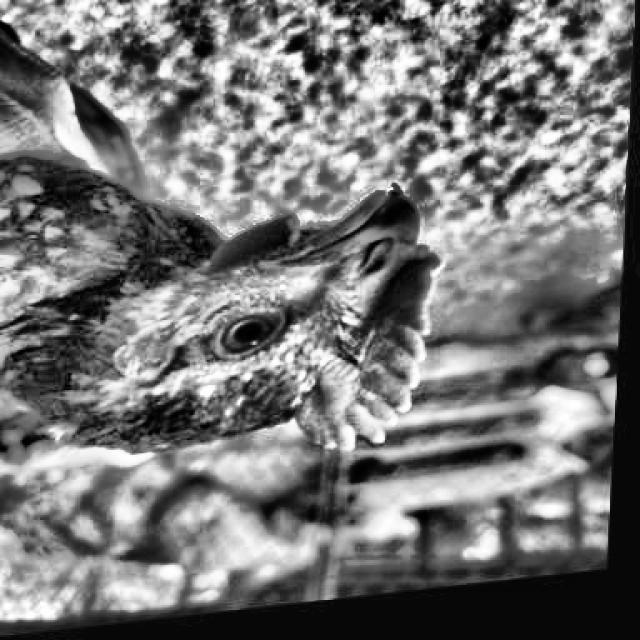Healthy: (178, 283, 314, 392)
